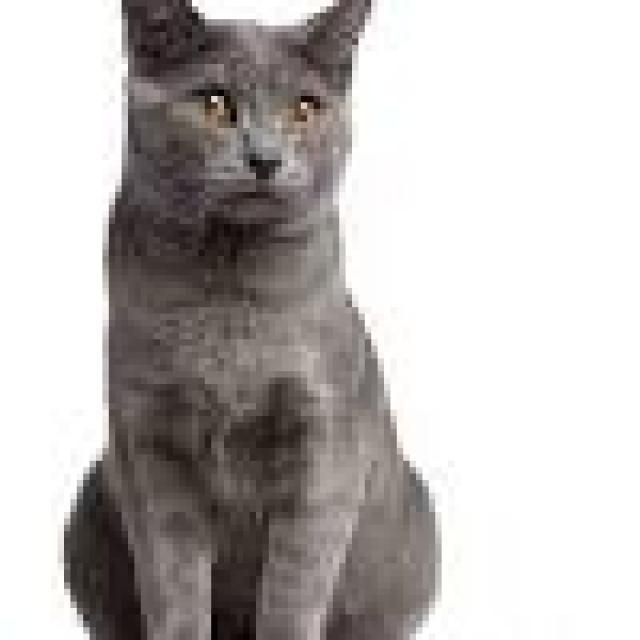Cat: (58, 1, 447, 640)
